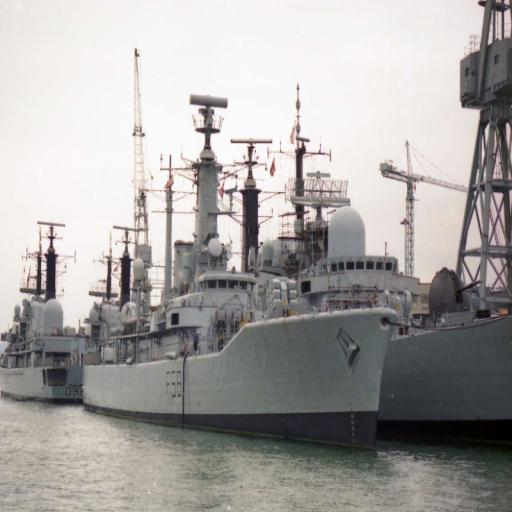Fragata: (78, 151, 403, 459), (2, 193, 92, 412)
